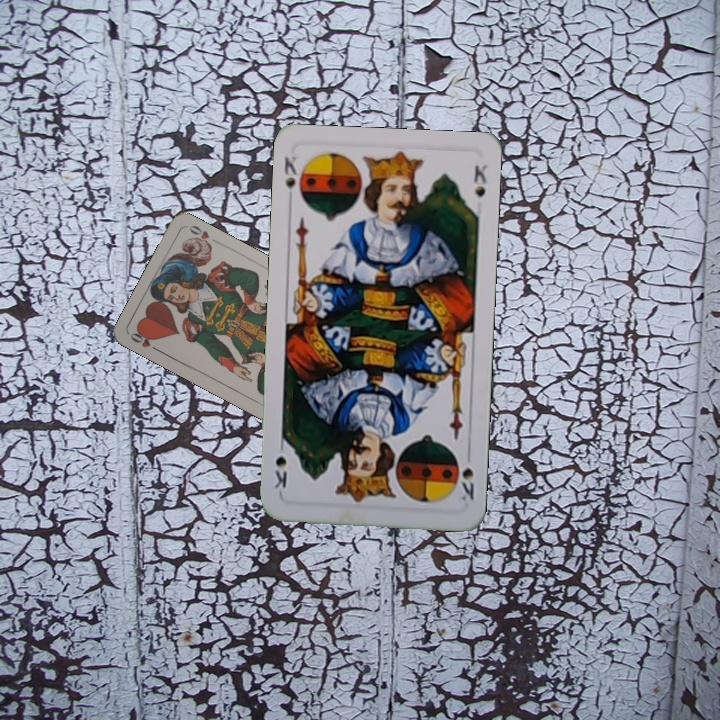HO: (126, 326, 164, 355)
SK: (451, 453, 477, 503), (280, 152, 299, 193)
